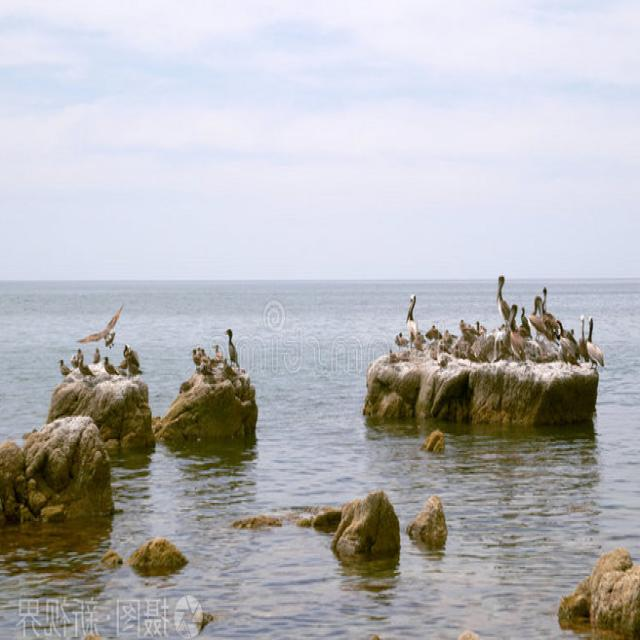reef: (0, 348, 269, 513), (359, 288, 602, 440), (220, 478, 408, 575)
